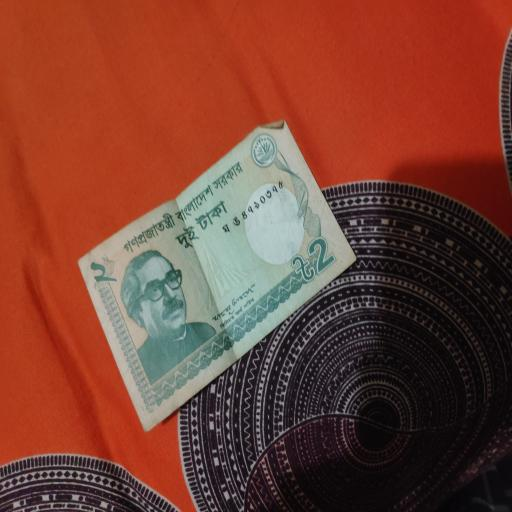2taka: (74, 118, 358, 428)
